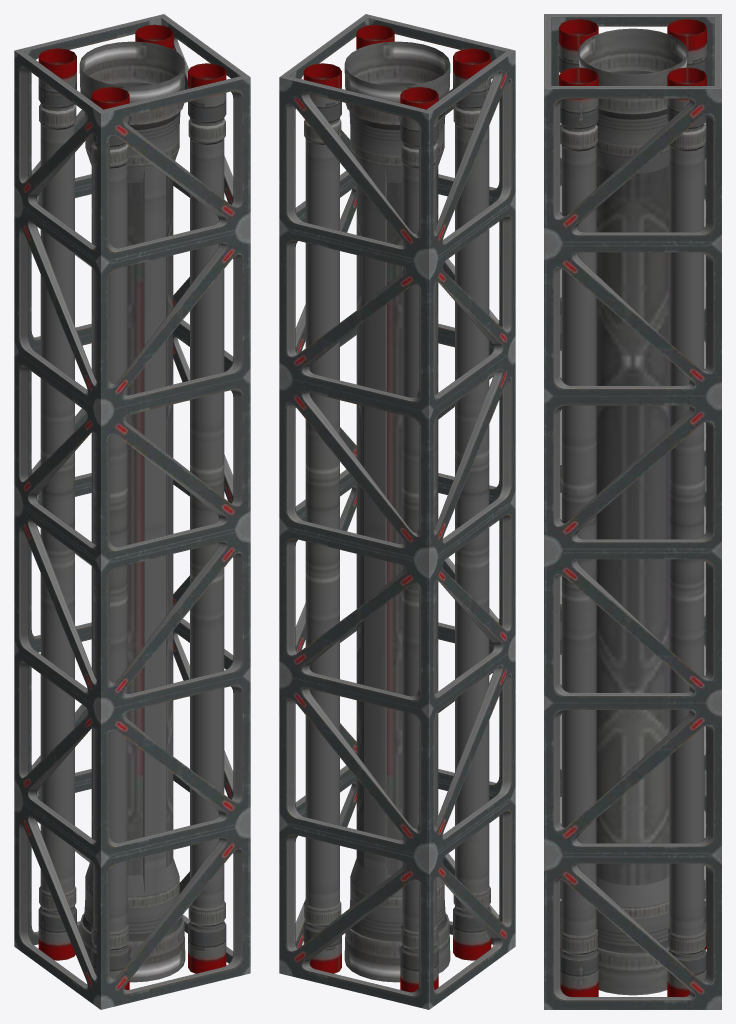
Rendered from column_pipes.gltf.
3 views of the same model, side by side, from view 1: azimuth 30°, elevation 25°; view 2: azimuth 150°, elevation 25°; view 3: azimuth 270°, elevation 25° (orthographic). The views are drawn at different scales.
Parts seen in each view (by area): view 1: Column_Pipes; view 2: Column_Pipes; view 3: Column_Pipes.
Part boxes in pixels (x1,y1,x2,y2): Column_Pipes: (14, 14, 250, 1009); Column_Pipes: (279, 14, 515, 1009); Column_Pipes: (544, 14, 721, 1009).
Bounding box in the file's own units: 0.8746 × 5 × 0.8746.
Materials: 3 (3 with a texture image).
